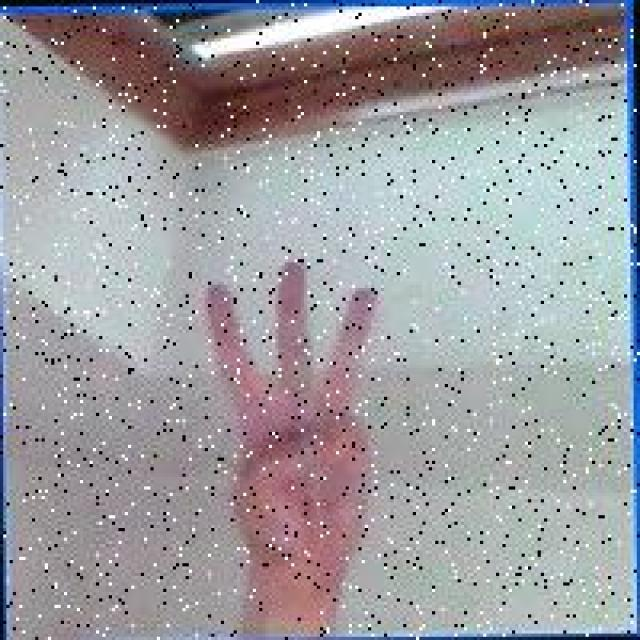W: (200, 256, 386, 566)
